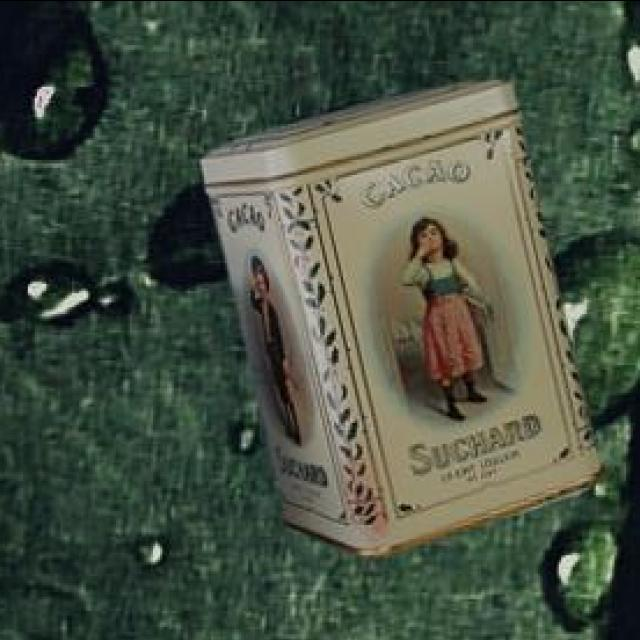logam: (198, 85, 602, 558)
